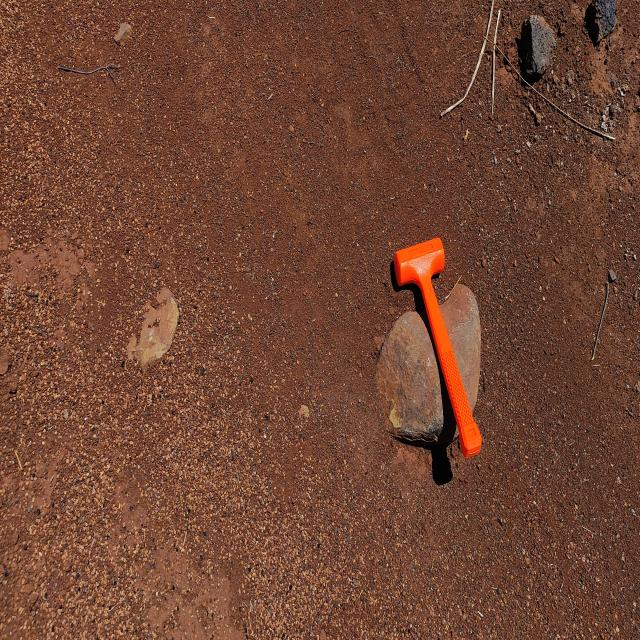Orange_hammer: (392, 236, 482, 459)
rock: (116, 277, 182, 381)
